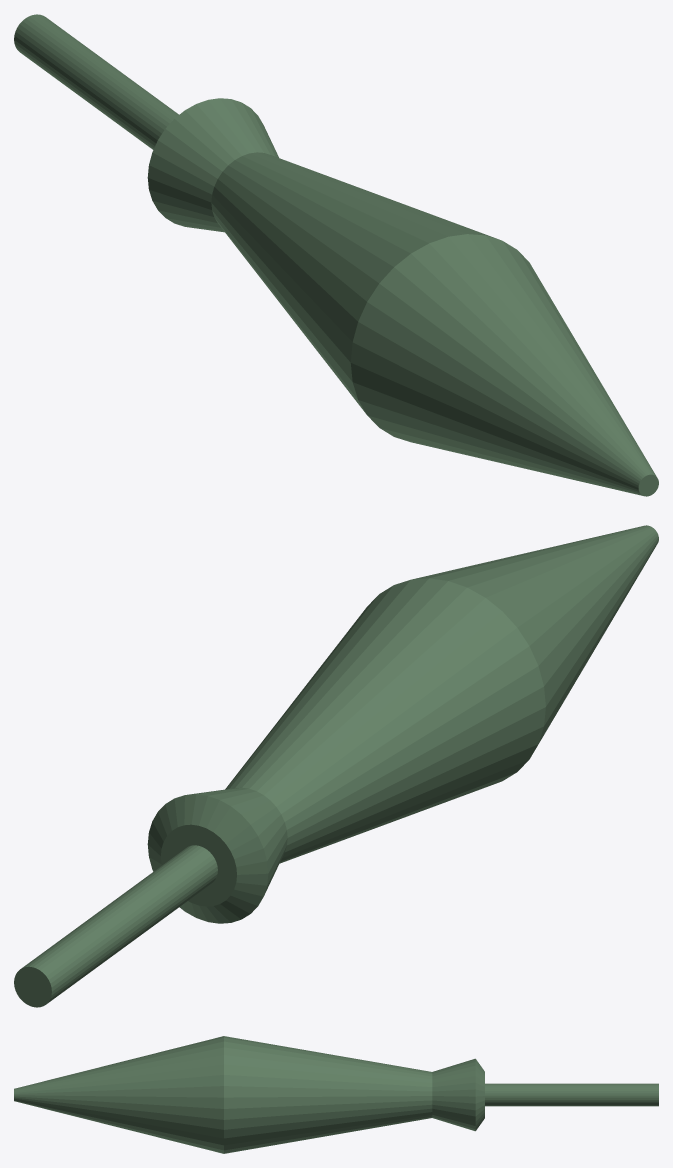
The model's file is Ammo_RPG.fbx.
The picture shows the model from 3 angles, top to bottom: view 1: azimuth 30°, elevation 25°; view 2: azimuth 150°, elevation 25°; view 3: azimuth 270°, elevation 25°; orthographic projection. The views are drawn at different scales.
Visible parts, largest first — view 1: Cube.009; view 2: Cube.009; view 3: Cube.009.
Part boxes in pixels (x1,y1,x2,y2): Cube.009: [14, 14, 658, 496]; Cube.009: [14, 525, 658, 1007]; Cube.009: [14, 1036, 658, 1153].
Bounding box in the file's own units: 24.92 × 24.92 × 136.
